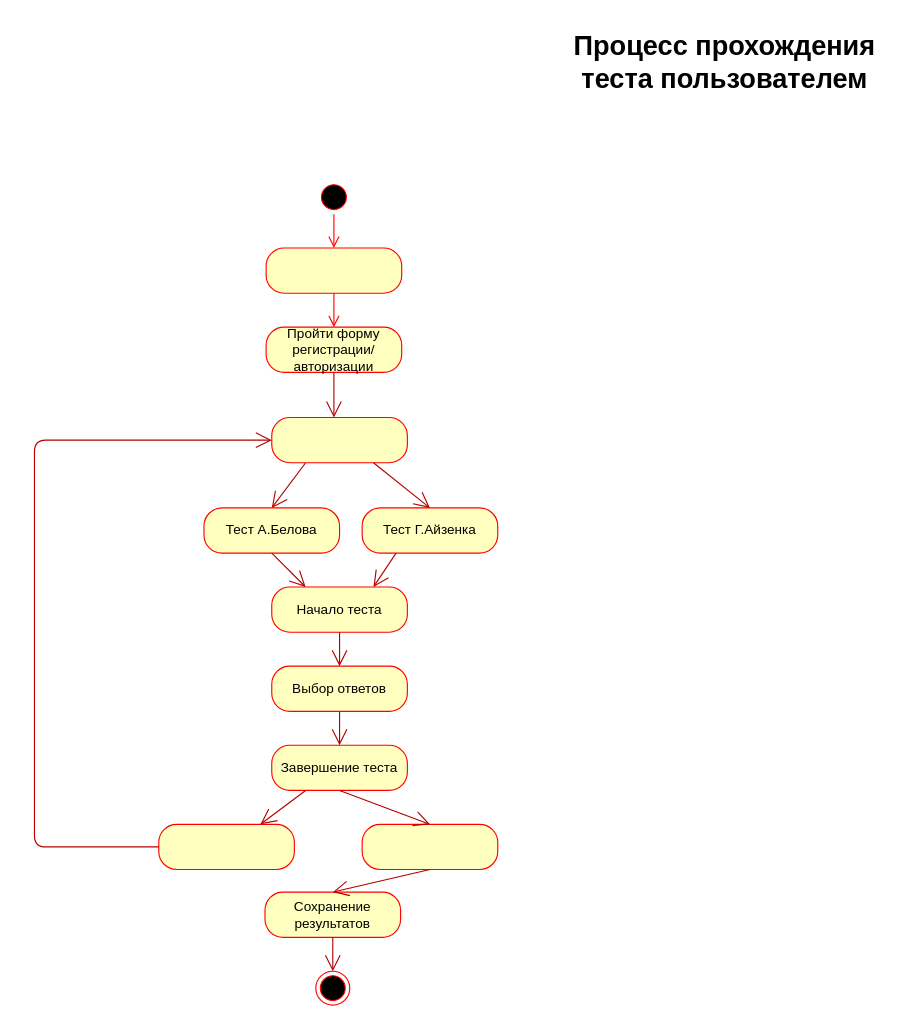
Some shapes in this 905 by 1025 pixel diagram are drawn without their labels. The shapes that lost their labels are listed below. From the top down, each one's centre as x and y in pixels, then its label:
At point 333,270: "Запустить приложение".
At point 339,439: "Выбор теста".
At point 226,846: "Прохождение другого теста".
At point 429,846: "Просмотр результатов".
